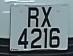1: (42, 28, 50, 50)
2: (30, 27, 43, 51)
4: (17, 28, 30, 51)
6: (48, 27, 61, 50)
R: (26, 5, 41, 30)
X: (40, 5, 54, 29)
